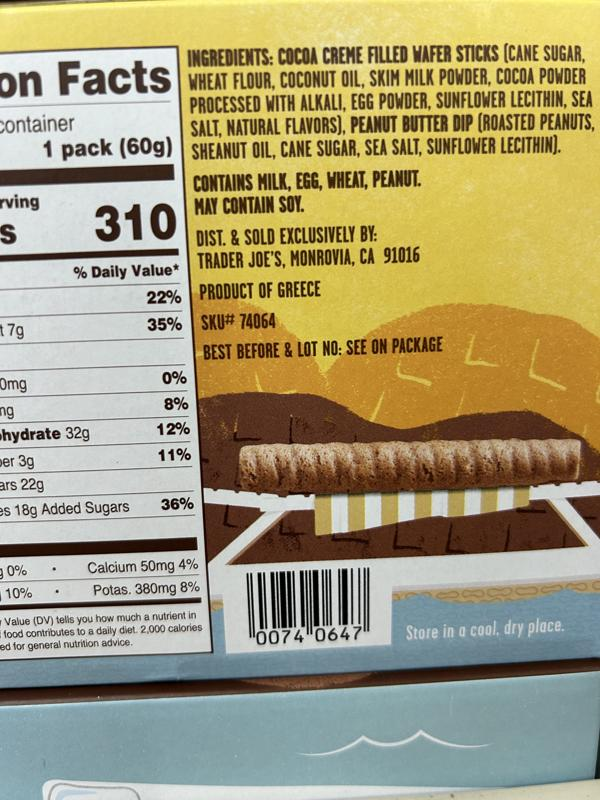ingredients: (185, 42, 597, 162)
